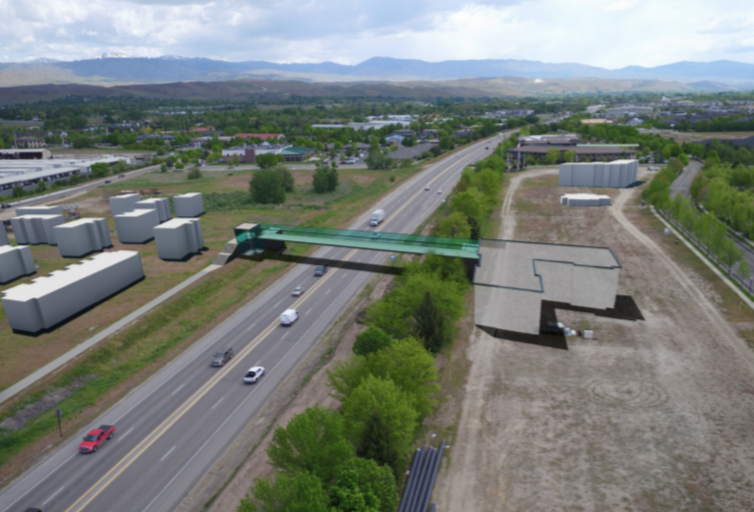bridge: (235, 216, 478, 260)
